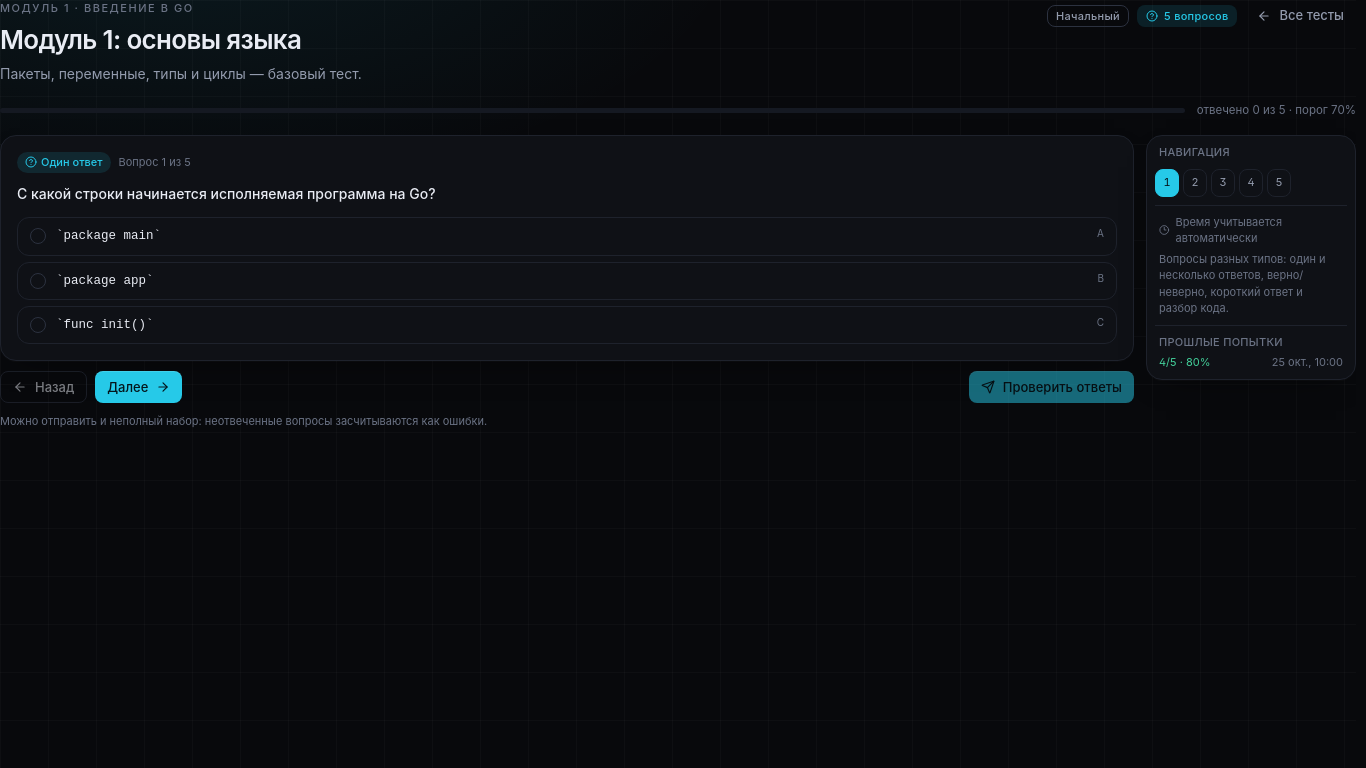
it: QuizPage › показывает несданный результат и правильные ответы
Click the button "`package app` b": {"x": 105, "y": 281} 17,262 -> 1117,300
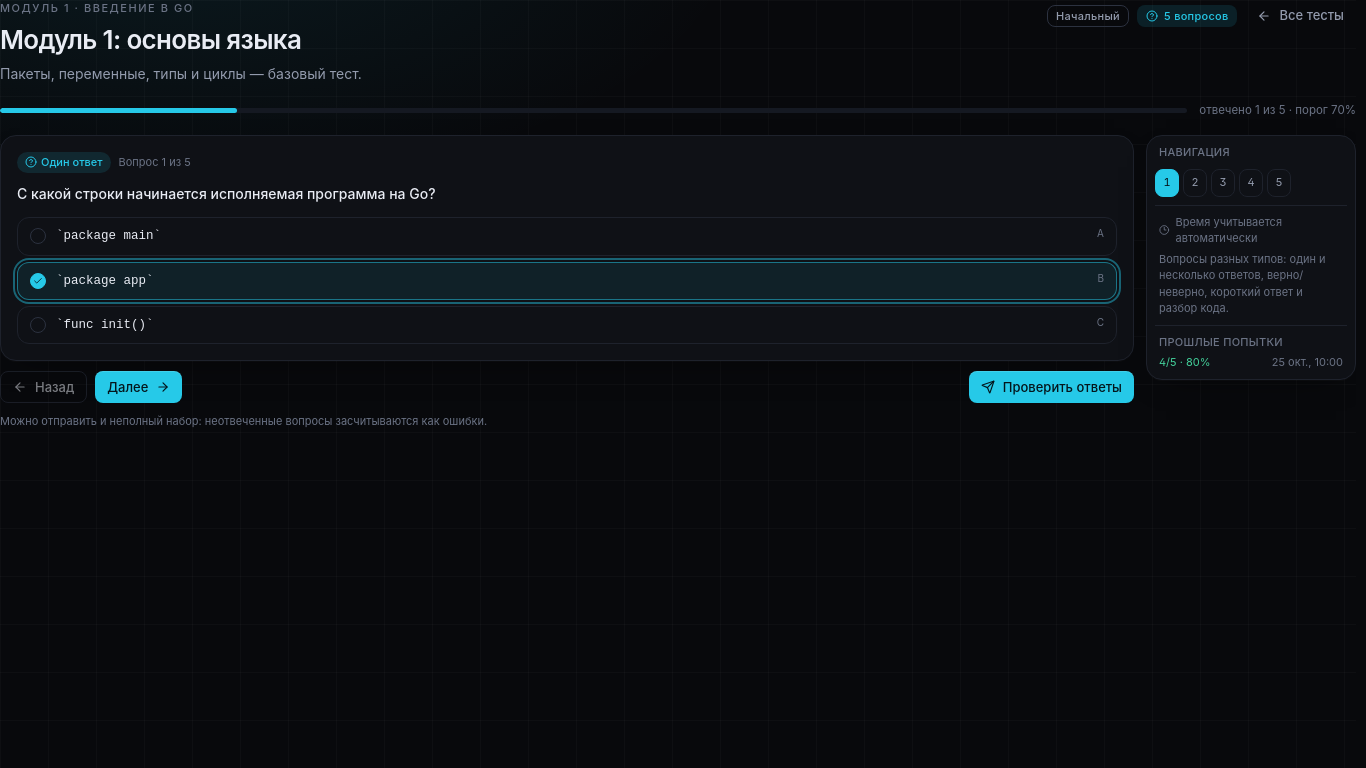
Click the button "Проверить ответы": {"x": 1051, "y": 387} 969,371 -> 1134,403
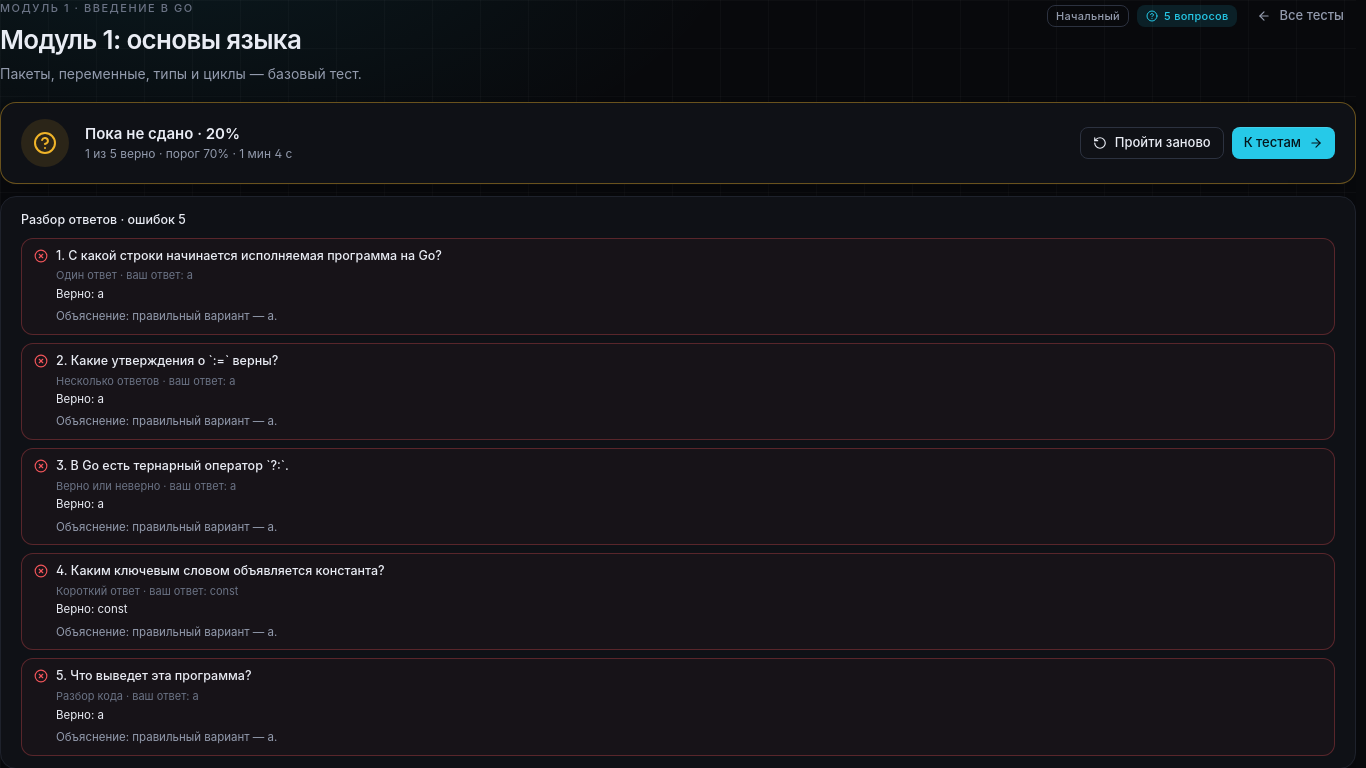
Expected: the text "Пока не сдано · 20%" is shown, 85,124 -> 240,143
Expected: the text "Разбор ответов · ошибок 5" is shown, 21,212 -> 186,227
Expected: the text "Верно: a" is shown 4 times, 56,287 -> 104,301; 56,392 -> 104,406; 56,497 -> 104,511; 56,708 -> 104,722
